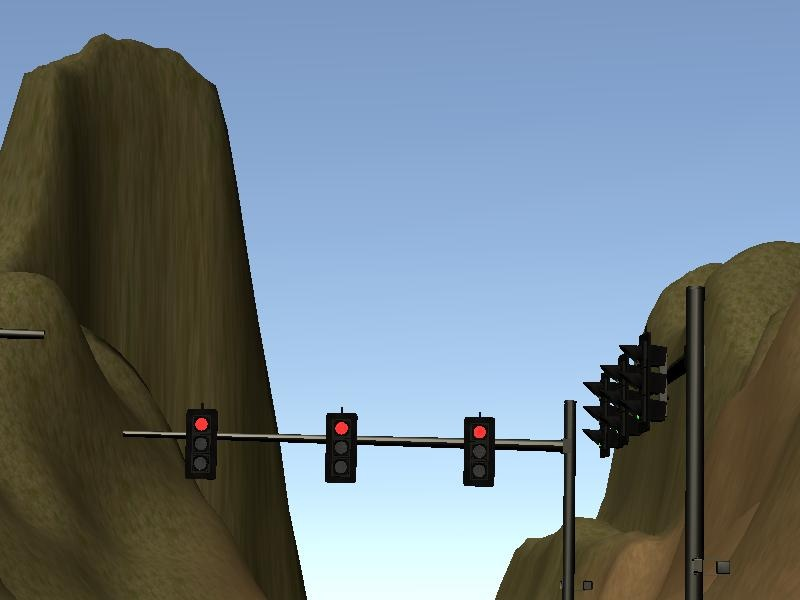RED: (184, 410, 216, 480), (325, 413, 357, 483), (463, 417, 495, 487)
